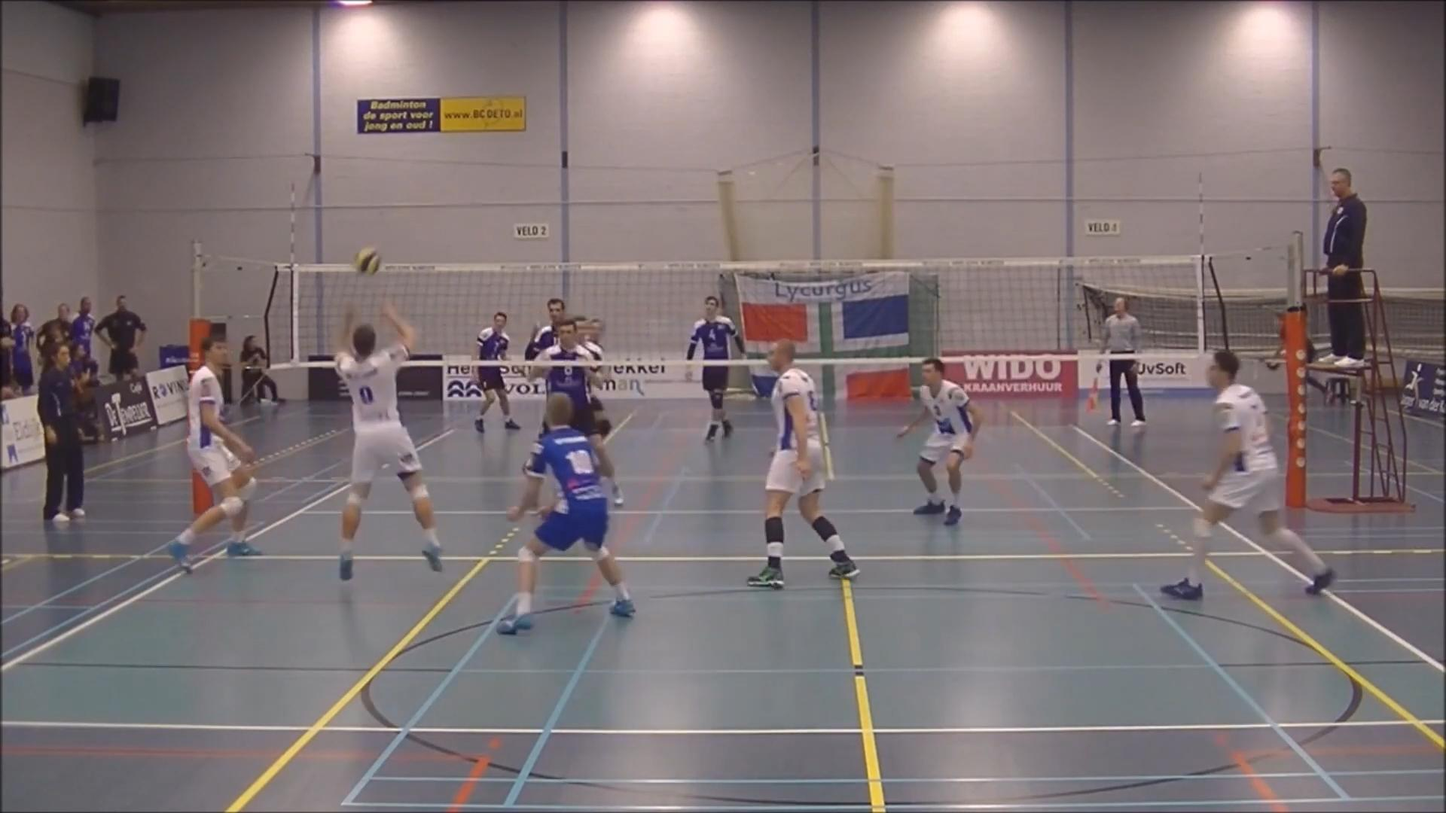ricezione: (310, 284, 455, 579)
